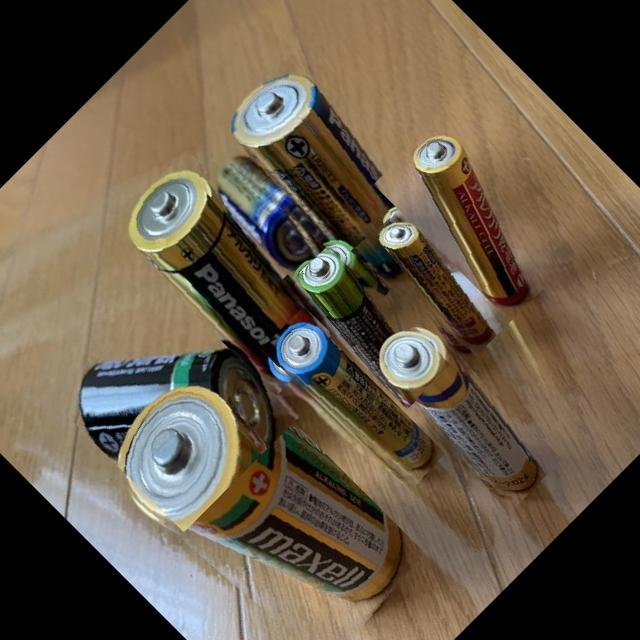Hazard: (84, 332, 433, 640), (49, 268, 312, 532), (201, 54, 456, 309), (108, 147, 356, 395), (373, 117, 577, 321), (360, 310, 563, 512), (260, 308, 447, 495), (279, 232, 456, 408), (350, 204, 512, 365), (196, 139, 336, 279)
